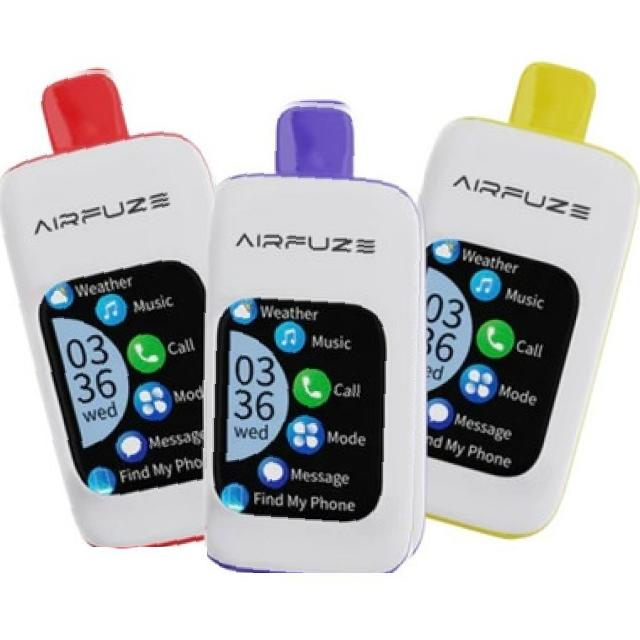Vapes: (0, 65, 217, 547), (207, 96, 426, 573)
